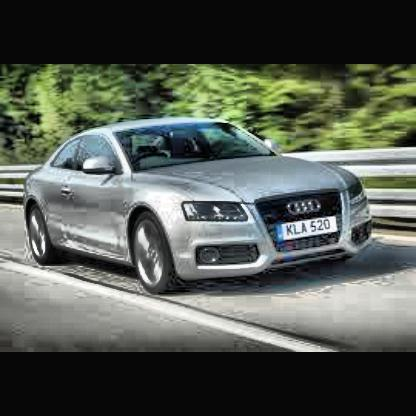Audi A5 Coupe 2012: (24, 111, 384, 297)
